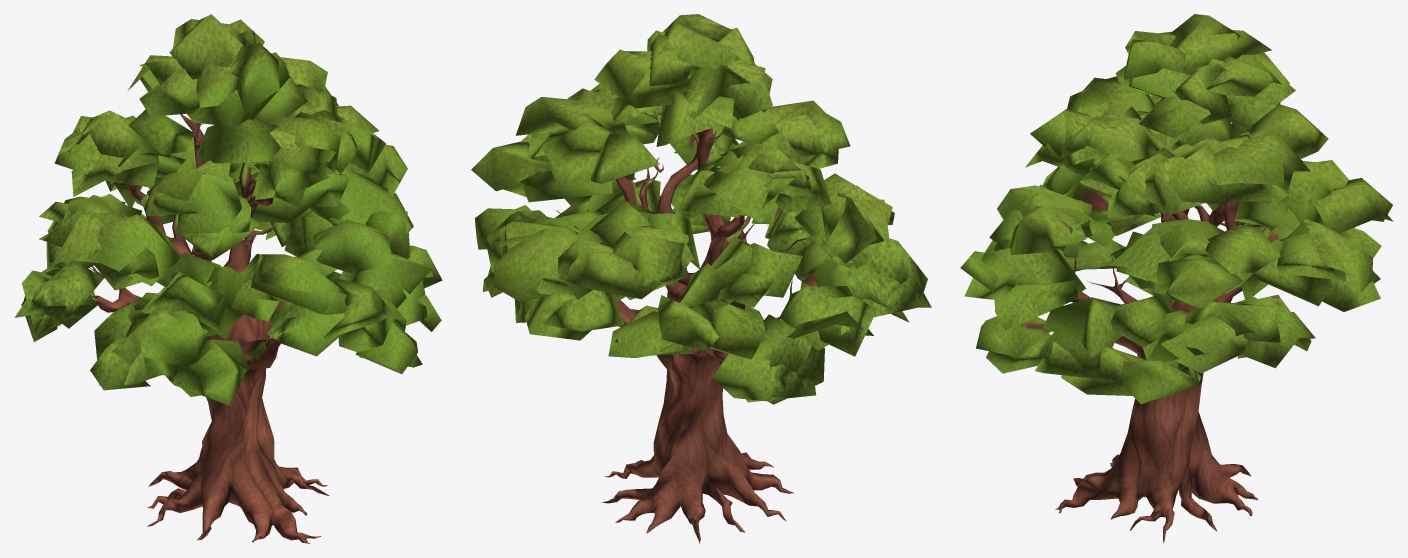
File: tree-oak.glb
The picture shows the model from 3 angles, left to right: view 1: azimuth 30°, elevation 25°; view 2: azimuth 150°, elevation 25°; view 3: azimuth 270°, elevation 25°; orthographic projection. The views are drawn at different scales.
Parts seen in each view (by area): view 1: Mesh_0; view 2: Mesh_0; view 3: Mesh_0.
Part boxes in pixels (<box>): Mesh_0: <box>14,14,442,543</box>; Mesh_0: <box>471,14,931,543</box>; Mesh_0: <box>960,14,1393,543</box>.
Size of the model in its own units: 7 by 8.39 by 6.81.
1 material, 1 textured.
